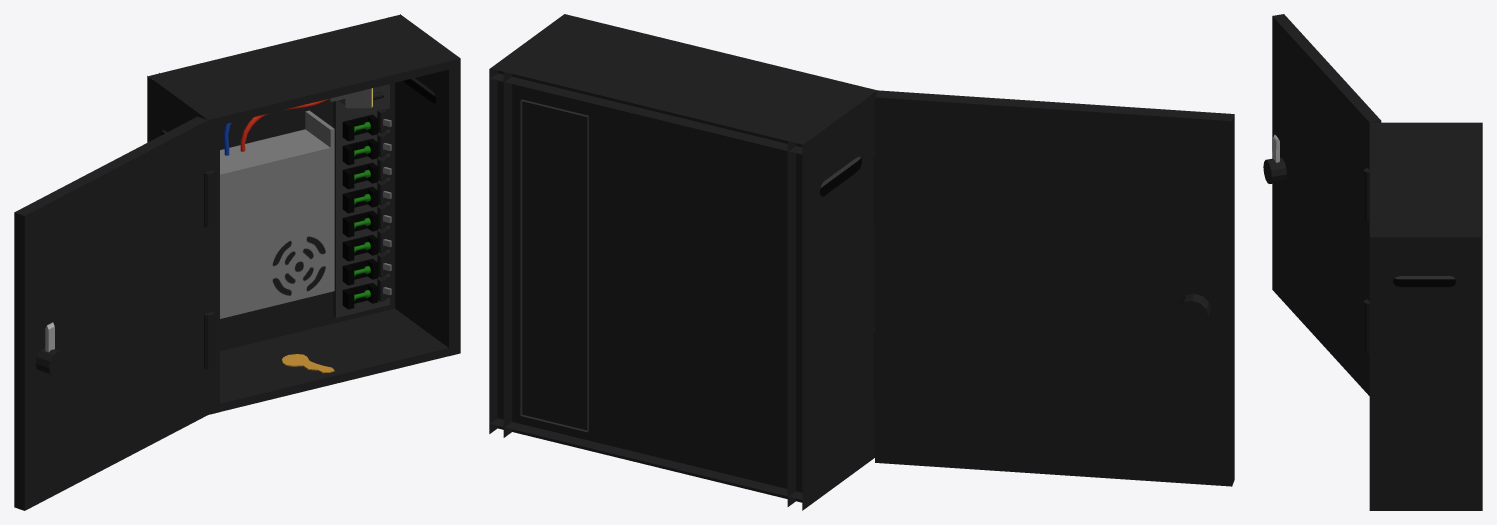
File: PowerBox.fbx
3 views of the same model, side by side, from view 1: azimuth 30°, elevation 25°; view 2: azimuth 150°, elevation 25°; view 3: azimuth 270°, elevation 25° (orthographic). The views are drawn at different scales.
Visible parts, largest first — view 1: PowerBox_Walls, PowerBox_Door, PowerBox_BatteryThing, PowerBox_FuseBracket_1 (×8), PowerBox_FusesBase, PowerBox_Lock, PowerBox_Hinge_1, PowerBox_Hinge_2, PowerBox_Plug, PowerBox_Key; view 2: PowerBox_Walls, PowerBox_Door, PowerBox_FusesBase, PowerBox_Lock; view 3: PowerBox_Walls, PowerBox_Door, PowerBox_Lock, PowerBox_Hinge_2, PowerBox_Hinge_1.
Part boxes in pixels (x1=…): PowerBox_Walls: x1=147, y1=14, x2=460, y2=414; PowerBox_Door: x1=14, y1=116, x2=207, y2=510; PowerBox_BatteryThing: x1=220, y1=110, x2=334, y2=318; PowerBox_FuseBracket_1 (×8): x1=342, y1=114, x2=378, y2=309; PowerBox_FusesBase: x1=333, y1=84, x2=389, y2=317; PowerBox_Lock: x1=35, y1=347, x2=66, y2=376; PowerBox_Hinge_1: x1=204, y1=170, x2=214, y2=227; PowerBox_Hinge_2: x1=204, y1=311, x2=214, y2=368; PowerBox_Plug: x1=328, y1=88, x2=372, y2=108; PowerBox_Key: x1=282, y1=354, x2=334, y2=373; PowerBox_Walls: x1=489, y1=14, x2=877, y2=510; PowerBox_Door: x1=875, y1=90, x2=1234, y2=486; PowerBox_FusesBase: x1=520, y1=99, x2=588, y2=431; PowerBox_Lock: x1=1176, y1=293, x2=1210, y2=330; PowerBox_Walls: x1=1369, y1=122, x2=1482, y2=510; PowerBox_Door: x1=1272, y1=14, x2=1381, y2=395; PowerBox_Lock: x1=1263, y1=157, x2=1286, y2=183; PowerBox_Hinge_2: x1=1363, y1=299, x2=1369, y2=353; PowerBox_Hinge_1: x1=1363, y1=168, x2=1369, y2=222.
Size of the model in its own units: 356 by 203 by 148.
